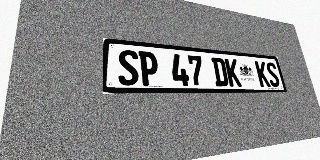4: (170, 54, 190, 86)
7: (186, 55, 205, 86)
D: (211, 57, 229, 86)
K: (224, 58, 242, 87), (254, 61, 271, 87)
P: (138, 51, 159, 86)
S: (118, 49, 139, 86), (265, 62, 281, 87)
